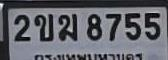2: (13, 14, 29, 40)
5: (124, 12, 140, 39), (144, 12, 159, 39)
7: (105, 13, 120, 40)
8: (86, 12, 101, 40)
A02: (34, 12, 53, 40)
A06: (58, 13, 77, 40)
